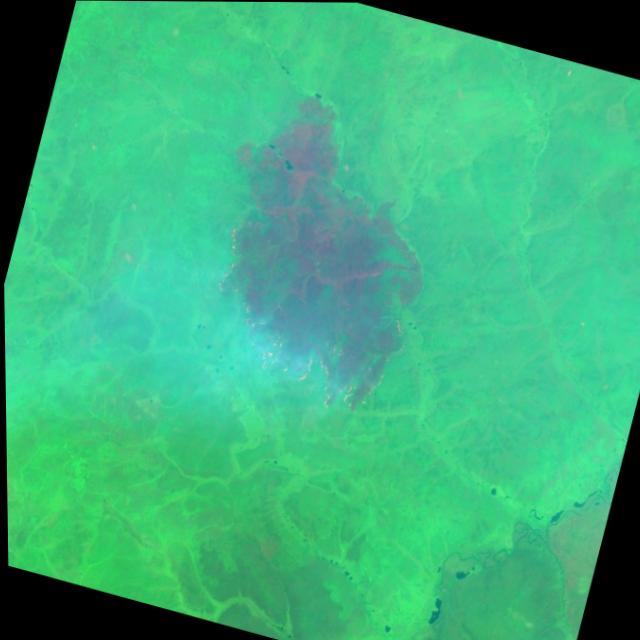fire: (181, 213, 434, 435)
